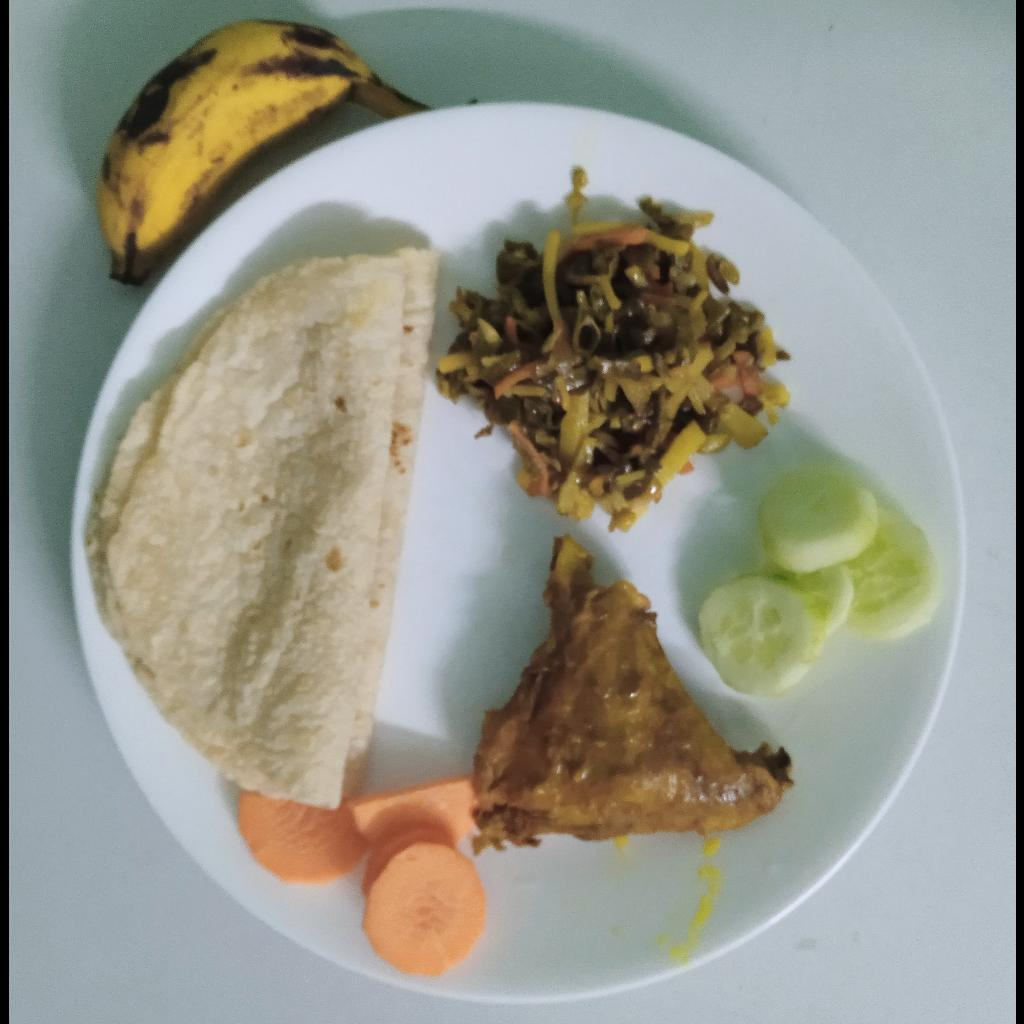banana: (94, 21, 428, 285)
carrot: (237, 775, 486, 976)
chicken: (470, 534, 794, 855)
cucumber: (696, 467, 944, 698)
ruti: (85, 245, 440, 810)
vegetable: (435, 199, 790, 530)
